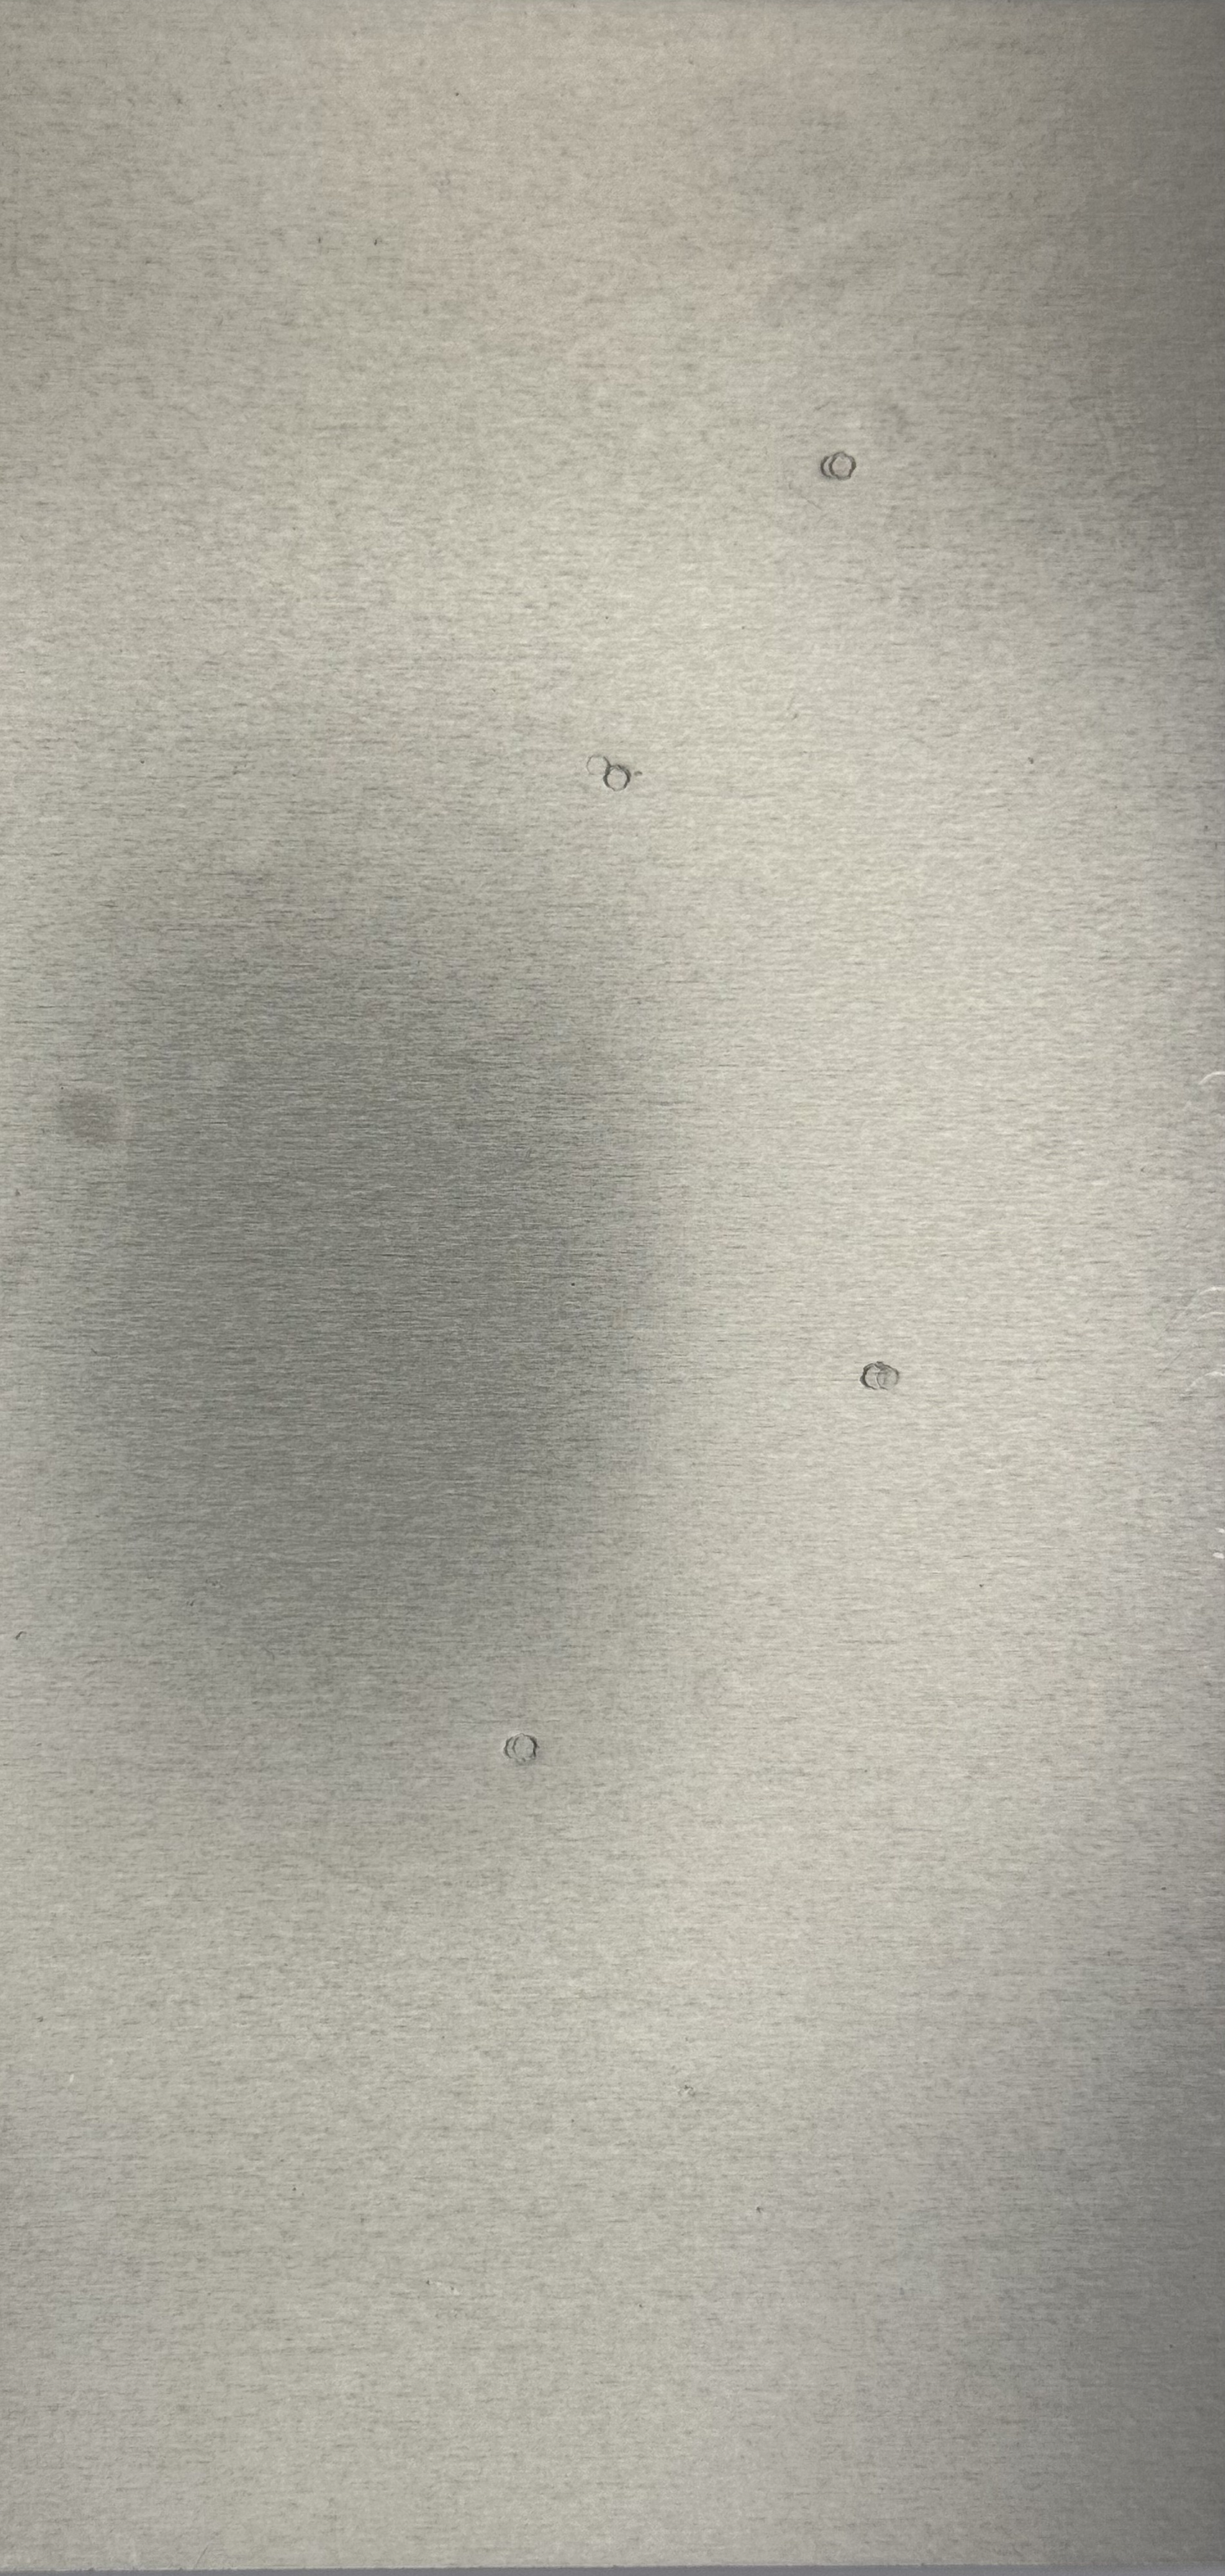Delle: (25, 1061, 166, 1180), (675, 1649, 778, 1732), (565, 738, 662, 802), (798, 429, 877, 503), (842, 1347, 931, 1411), (483, 1717, 560, 1779)
